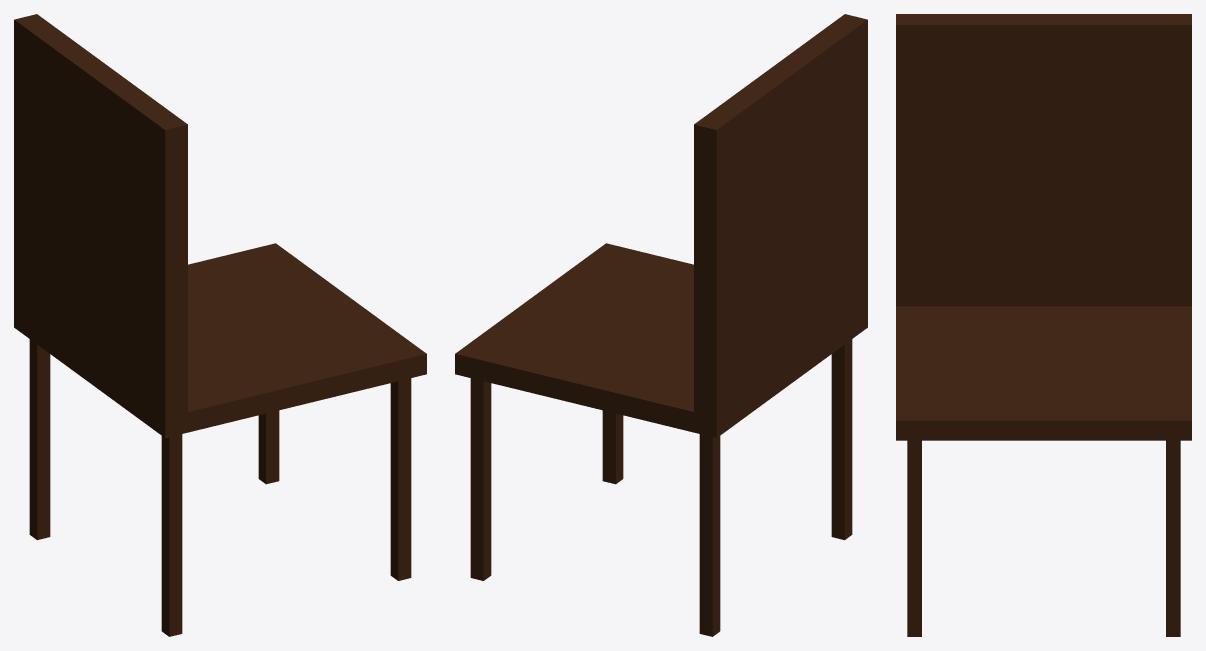
The model's file is Стул.fbx.
3 views of the same model, side by side, from view 1: azimuth 30°, elevation 25°; view 2: azimuth 150°, elevation 25°; view 3: azimuth 270°, elevation 25° (orthographic). The views are drawn at different scales.
Parts seen in each view (by area): view 1: Куб; view 2: Куб; view 3: Куб.
Boxes of the visible parts, <box> form: Куб: <box>14,14,426,636</box>; Куб: <box>455,14,867,636</box>; Куб: <box>896,14,1191,636</box>.
Bounding box in the file's own units: 80 × 150 × 80.
